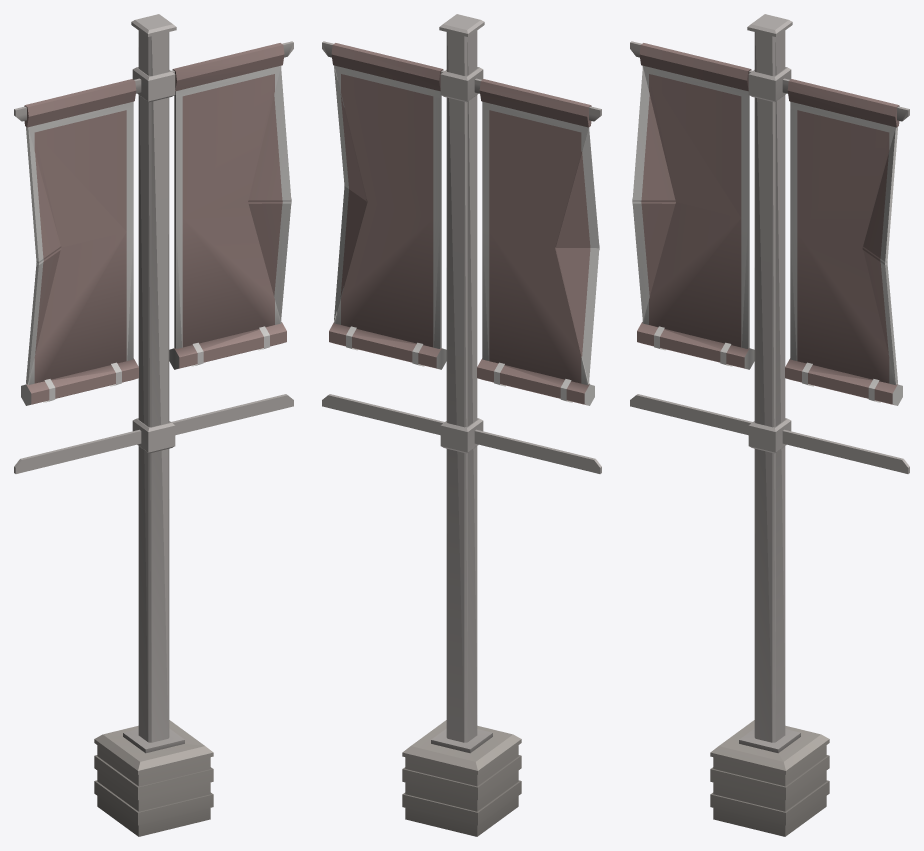
Rendered from banner.glb.
The picture shows the model from 3 angles, left to right: view 1: azimuth 30°, elevation 25°; view 2: azimuth 150°, elevation 25°; view 3: azimuth 330°, elevation 25°; orthographic projection.
Visible parts, largest first — view 1: banner; view 2: banner; view 3: banner.
Boxes of the visible parts, box(x1,y1,x2,y2) form: banner: box(14, 14, 293, 836); banner: box(322, 14, 601, 836); banner: box(630, 14, 909, 836).
Bounding box in the file's own units: 1.84 × 5 × 0.5.
